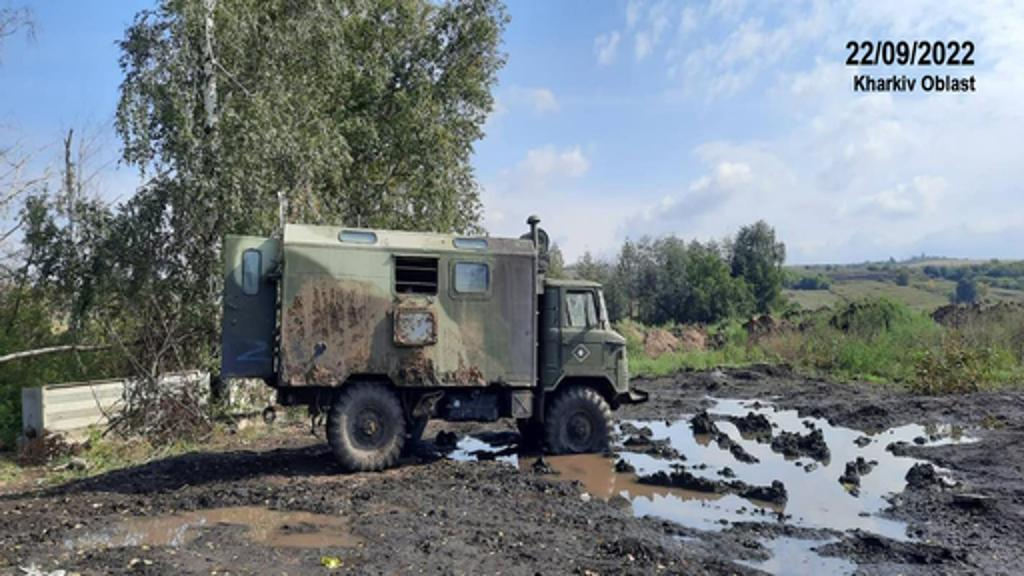TRUCK: (210, 210, 638, 468)
